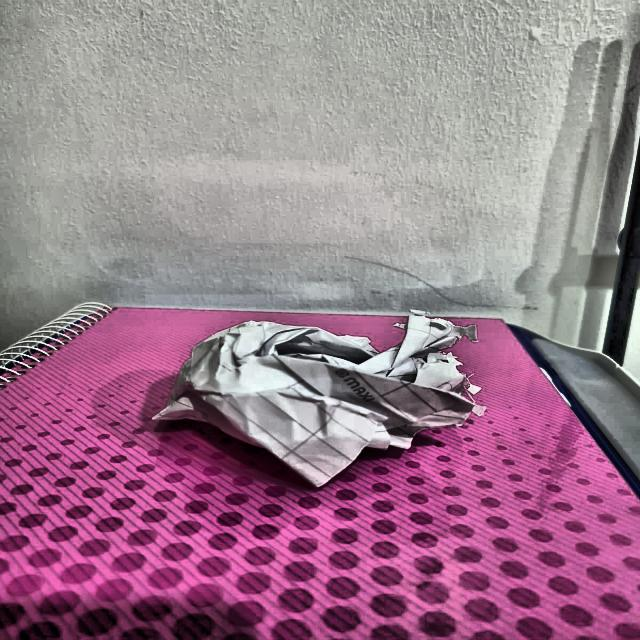Paper: (192, 316, 470, 454)
